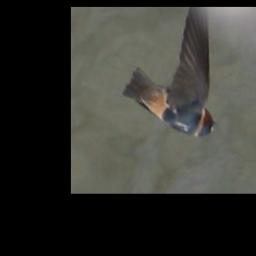Swallow: (121, 7, 218, 143)
